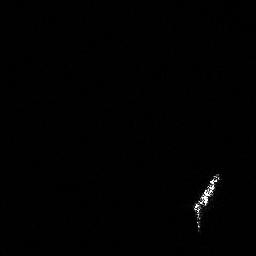ship: (189, 169, 224, 233)
